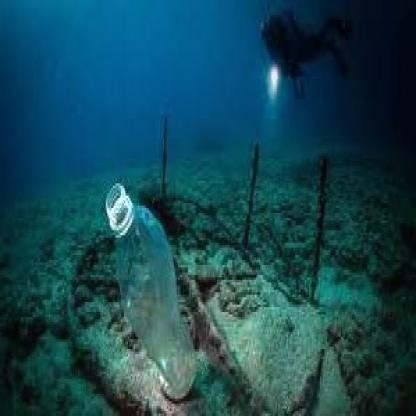pbottle: (91, 168, 203, 402)
